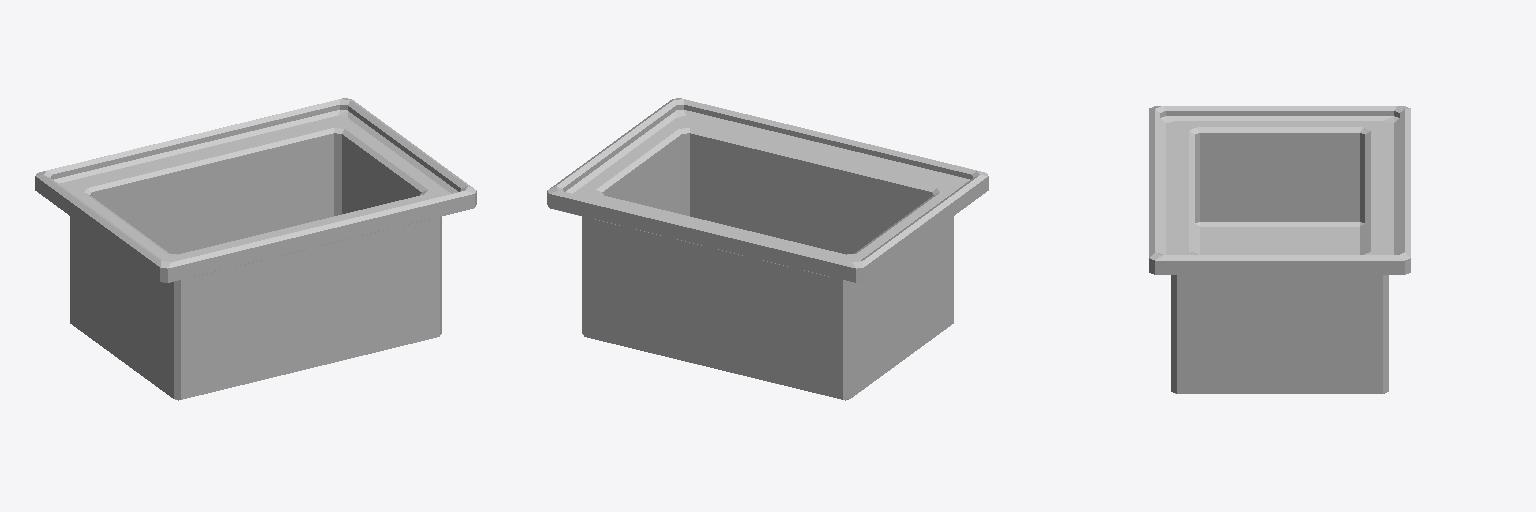
The model's file is recycle bin.obj.
The picture shows the model from 3 angles: view 1: azimuth 30°, elevation 25°; view 2: azimuth 150°, elevation 25°; view 3: azimuth 270°, elevation 25°; orthographic projection.
Parts seen in each view (by area): view 1: Cube; view 2: Cube; view 3: Cube.
Part boxes in pixels (left/top/right/bottom): Cube: left=35, top=98, right=476, bottom=400; Cube: left=547, top=98, right=988, bottom=400; Cube: left=1149, top=106, right=1410, bottom=393.
Bounding box in the file's own units: 2.14 × 0.9758 × 1.53.